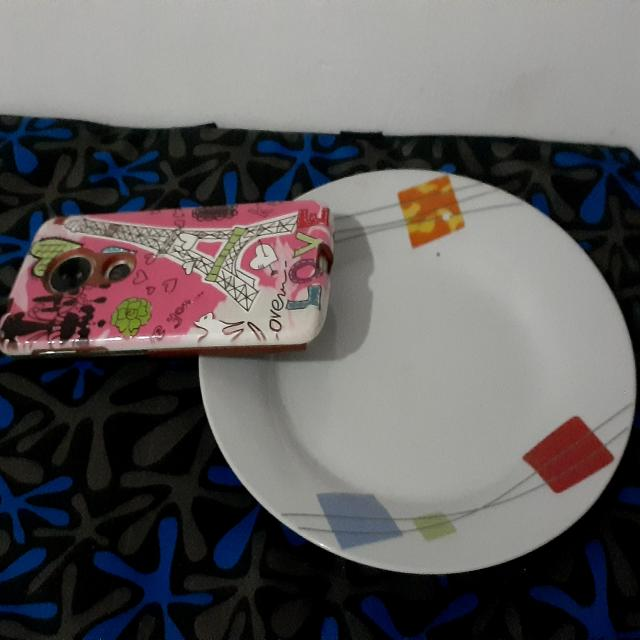non-organic waste: (198, 171, 626, 585)
